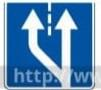road_sign: (3, 0, 96, 90)
